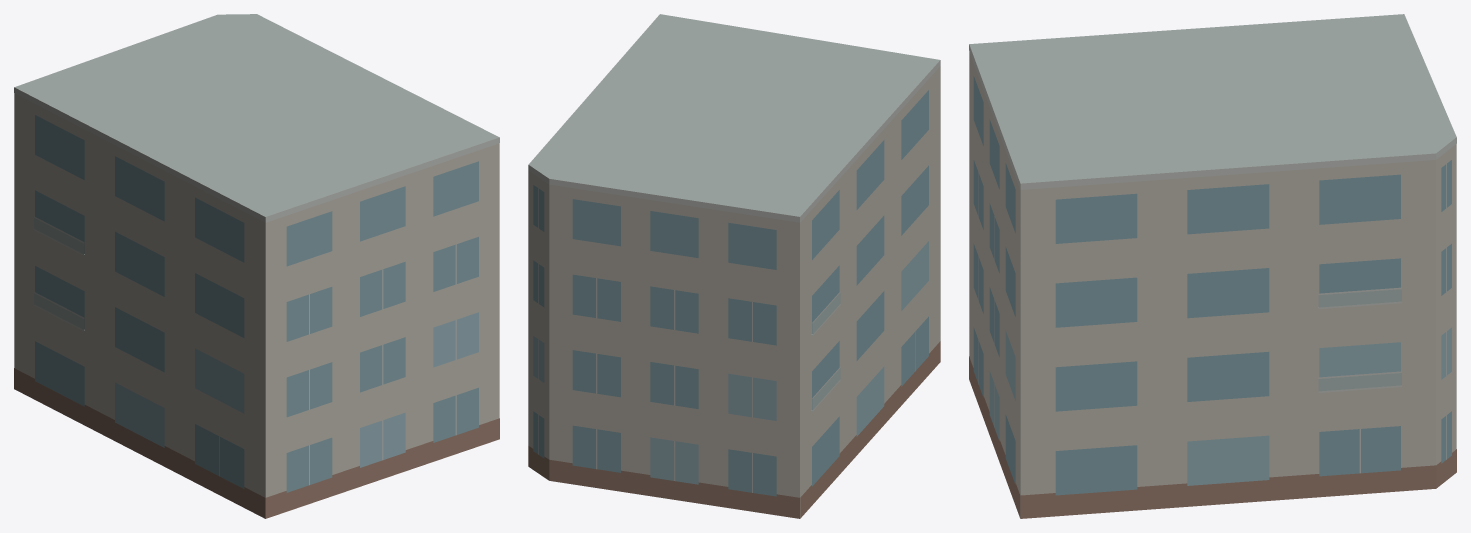
File: survey-upis-32698541.glb
3 views of the same model, side by side, from view 1: azimuth 30°, elevation 25°; view 2: azimuth 150°, elevation 25°; view 3: azimuth 270°, elevation 25° (orthographic). The views are drawn at different scales.
Parts seen in each view (by area): view 1: survey-upis-32698541.tmp; view 2: survey-upis-32698541.tmp; view 3: survey-upis-32698541.tmp.
Boxes of the visible parts, x1,y1,x2,y2 form: survey-upis-32698541.tmp: (14, 14, 499, 518); survey-upis-32698541.tmp: (528, 14, 940, 518); survey-upis-32698541.tmp: (969, 14, 1456, 518).
Size of the model in its own units: 13.89 by 12.8 by 16.88.
